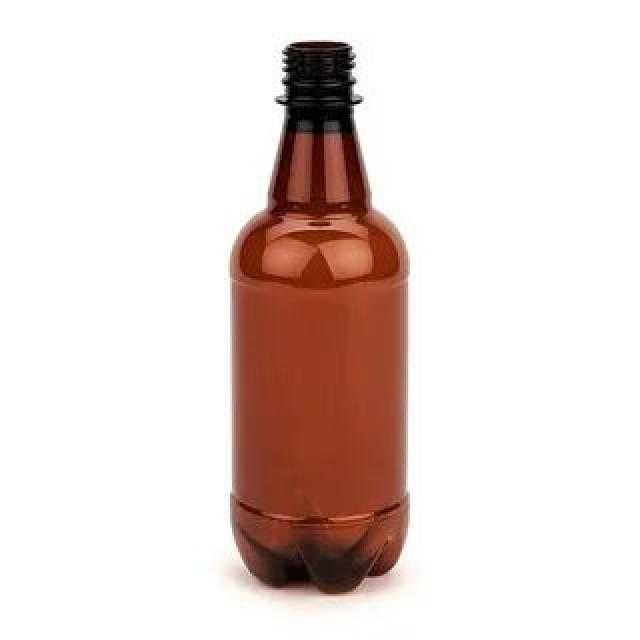brown: (233, 39, 407, 594)
